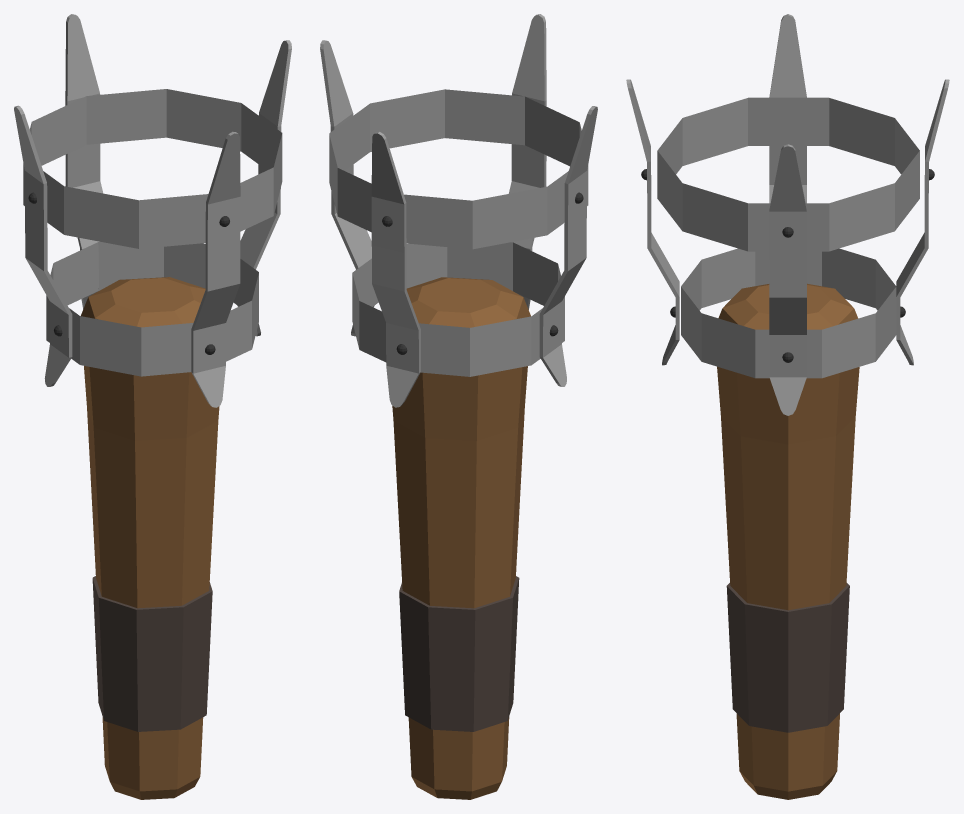
The model's file is torch.glb.
3 renders of one model, left to right at view 1: azimuth 30°, elevation 25°; view 2: azimuth 150°, elevation 25°; view 3: azimuth 270°, elevation 25°, orthographic.
Parts seen in each view (by area): view 1: torch; view 2: torch; view 3: torch.
Part boxes in pixels (x1,y1,x2,y2): torch: (14, 14, 291, 799); torch: (320, 14, 597, 799); torch: (626, 14, 949, 799).
Size of the model in its own units: 0.0964 by 0.2401 by 0.0996.
1 material, 1 textured.
